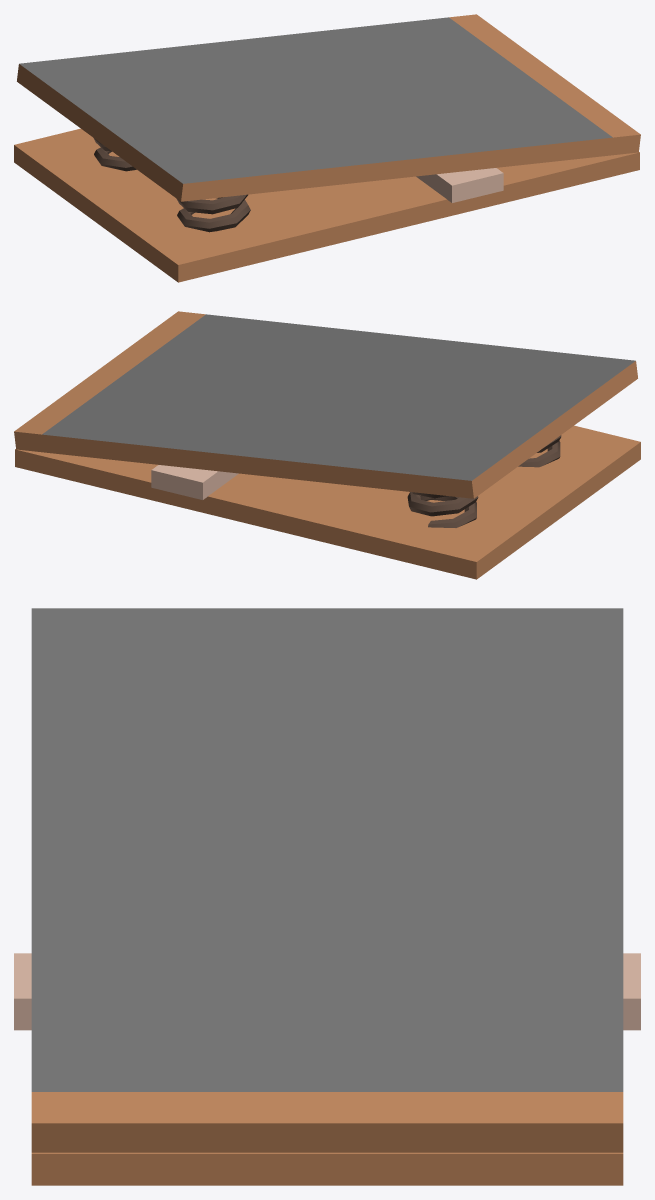
Rendered from Jumping_Stand.fbx.
The picture shows the model from 3 angles, top to bottom: view 1: azimuth 30°, elevation 25°; view 2: azimuth 150°, elevation 25°; view 3: azimuth 270°, elevation 25°; orthographic projection. The views are drawn at different scales.
Parts seen in each view (by area): view 1: Upper_Stand, Lower_Stand, Spring, Stick; view 2: Upper_Stand, Lower_Stand, Spring, Stick; view 3: Upper_Stand, Lower_Stand, Stick.
Part boxes in pixels (x1=…): Upper_Stand: x1=17, y1=14, x2=640, y2=201; Lower_Stand: x1=14, y1=128, x2=639, y2=282; Spring: x1=93, y1=138, x2=250, y2=232; Stick: x1=416, y1=168, x2=503, y2=202; Upper_Stand: x1=14, y1=311, x2=637, y2=498; Lower_Stand: x1=15, y1=425, x2=640, y2=579; Spring: x1=407, y1=435, x2=561, y2=527; Stick: x1=151, y1=465, x2=238, y2=499; Upper_Stand: x1=31, y1=608, x2=623, y2=1152; Lower_Stand: x1=31, y1=1152, x2=623, y2=1185; Stick: x1=14, y1=953, x2=640, y2=1030.
Bounding box in the file's own units: 4.01 × 0.8075 × 2.61.
